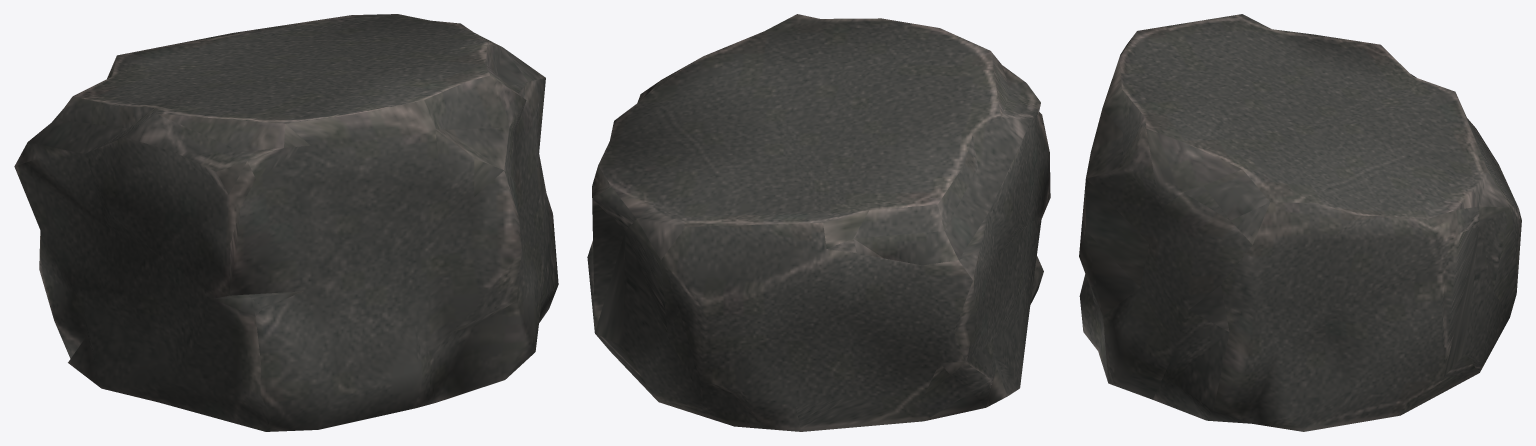
Rendered from boulder_large_c.gltf.
The picture shows the model from 3 angles, left to right: view 1: azimuth 30°, elevation 25°; view 2: azimuth 150°, elevation 25°; view 3: azimuth 270°, elevation 25°; orthographic projection. The views are drawn at different scales.
Parts seen in each view (by area): view 1: boulder_large_c; view 2: boulder_large_c; view 3: boulder_large_c.
Part boxes in pixels (left/top/right/bottom): boulder_large_c: left=14, top=14, right=558, bottom=431; boulder_large_c: left=587, top=14, right=1050, bottom=431; boulder_large_c: left=1079, top=14, right=1521, bottom=431.
Size of the model in its own units: 1.44 by 0.9 by 1.36.
Materials: 1 (1 with a texture image).
